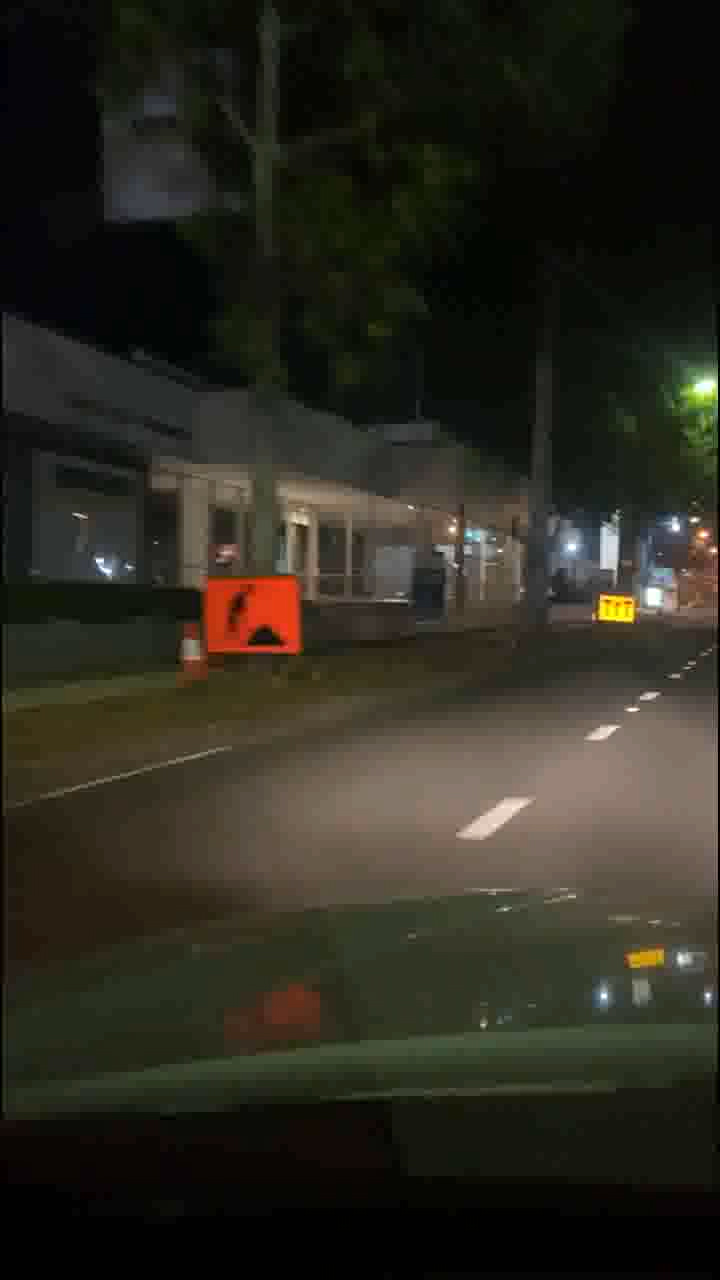road works sign board: (203, 578, 302, 654), (593, 592, 639, 627)
